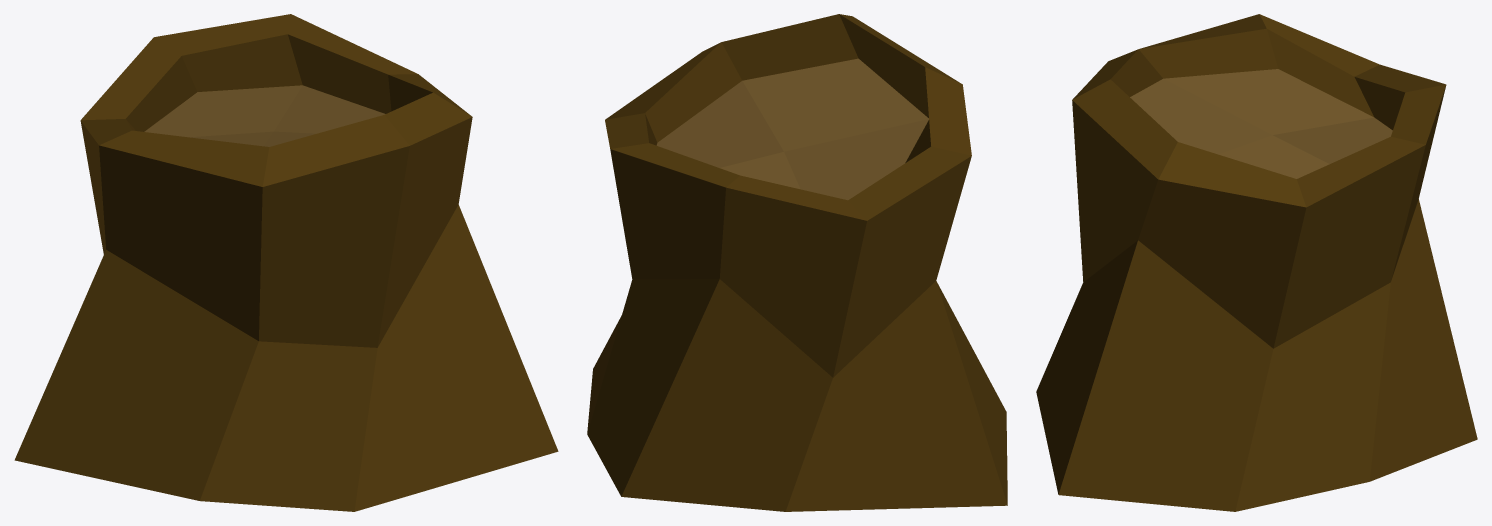
File: Stump1.fbx
3 renders of one model, left to right at view 1: azimuth 30°, elevation 25°; view 2: azimuth 150°, elevation 25°; view 3: azimuth 270°, elevation 25°, orthographic. The views are drawn at different scales.
Parts seen in each view (by area): view 1: Cylinder.006; view 2: Cylinder.006; view 3: Cylinder.006.
Boxes of the visible parts, left/top/right/bottom form: Cylinder.006: left=14, top=14, right=558, bottom=511; Cylinder.006: left=587, top=14, right=1007, bottom=511; Cylinder.006: left=1036, top=14, right=1477, bottom=511.
Size of the model in its own units: 65.55 by 49 by 56.71.
